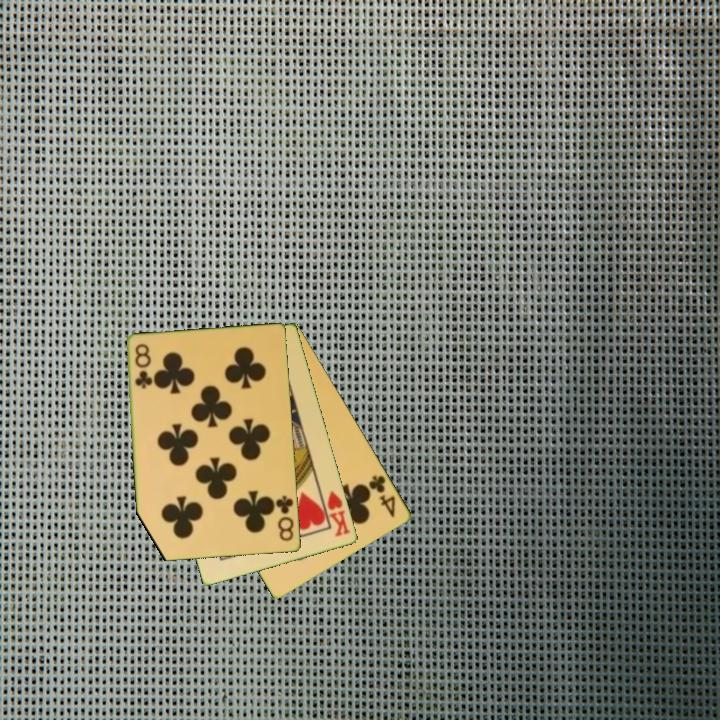4c: (365, 472, 399, 521)
8c: (273, 492, 297, 544), (132, 340, 154, 392)
Kh: (317, 488, 353, 540)
